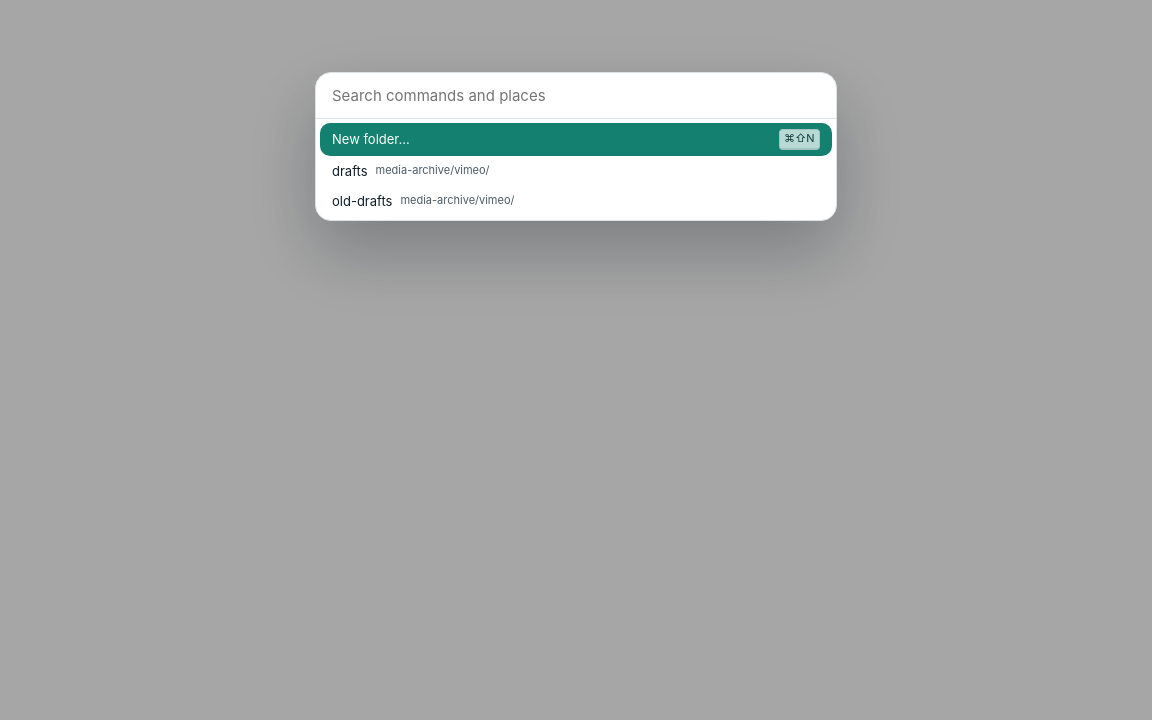
it: CommandPalette › says when nothing matches
This screenshot has width=1152, height=720.
Step 1. Type "zzz" into the dropdown → (576, 96), box [316,73,836,119]
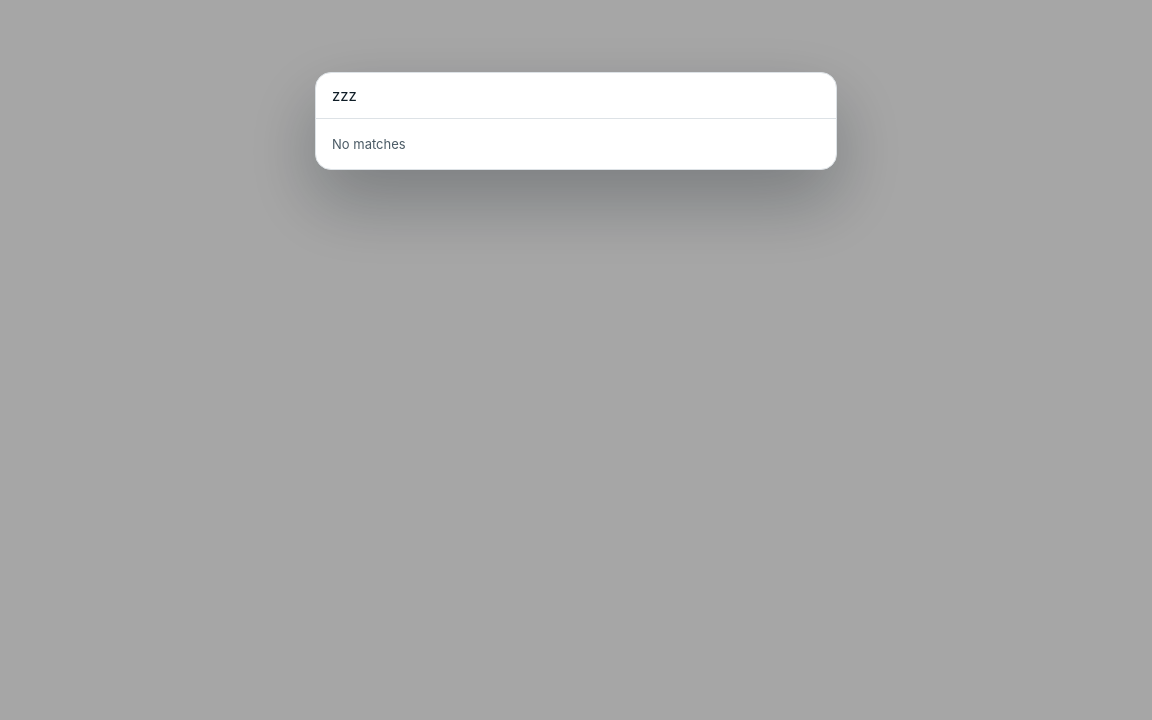
Now the list item "No matches" is shown, box [332,136,406,152]
